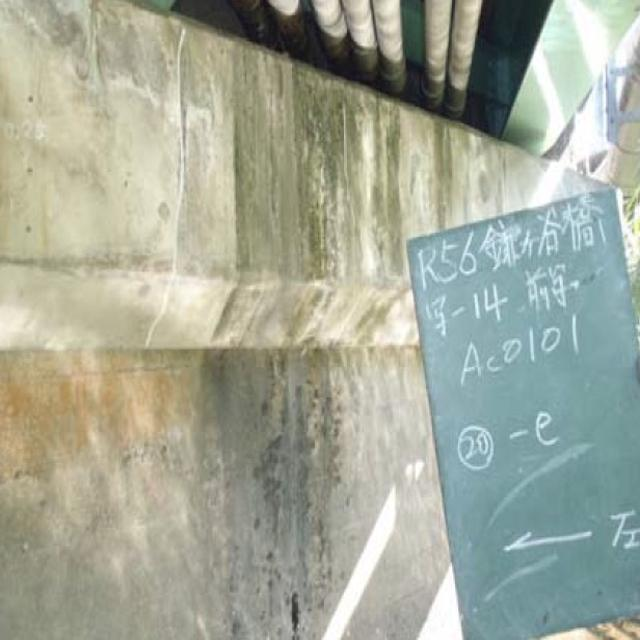leakage: (230, 56, 397, 594)
